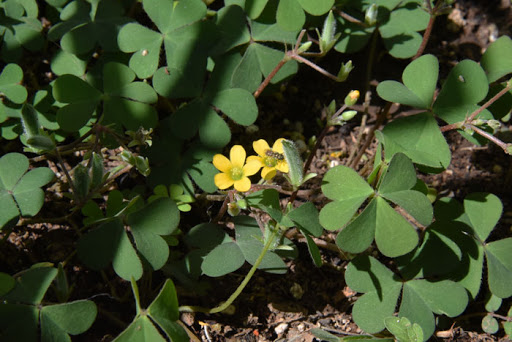clover: (376, 54, 494, 175), (345, 232, 470, 340), (316, 152, 434, 258), (152, 39, 260, 149), (74, 195, 179, 281), (52, 61, 159, 139), (1, 149, 55, 227)
yellow wood sorrel: (210, 143, 261, 193), (248, 136, 293, 182)
